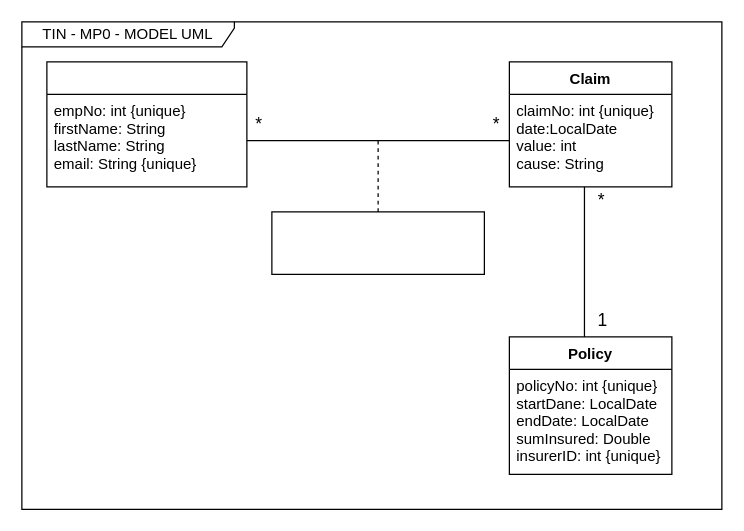
The diagram is 744 pixels wide and 531 high, and some of its shapes have lost their labels. The box of each missing label's shape, as (x1, y1, x2, y2) in pixels:
Employee: (46, 61, 247, 187)
workStartDate:LocalDate workEndDate:LocalDate: (271, 211, 484, 274)
